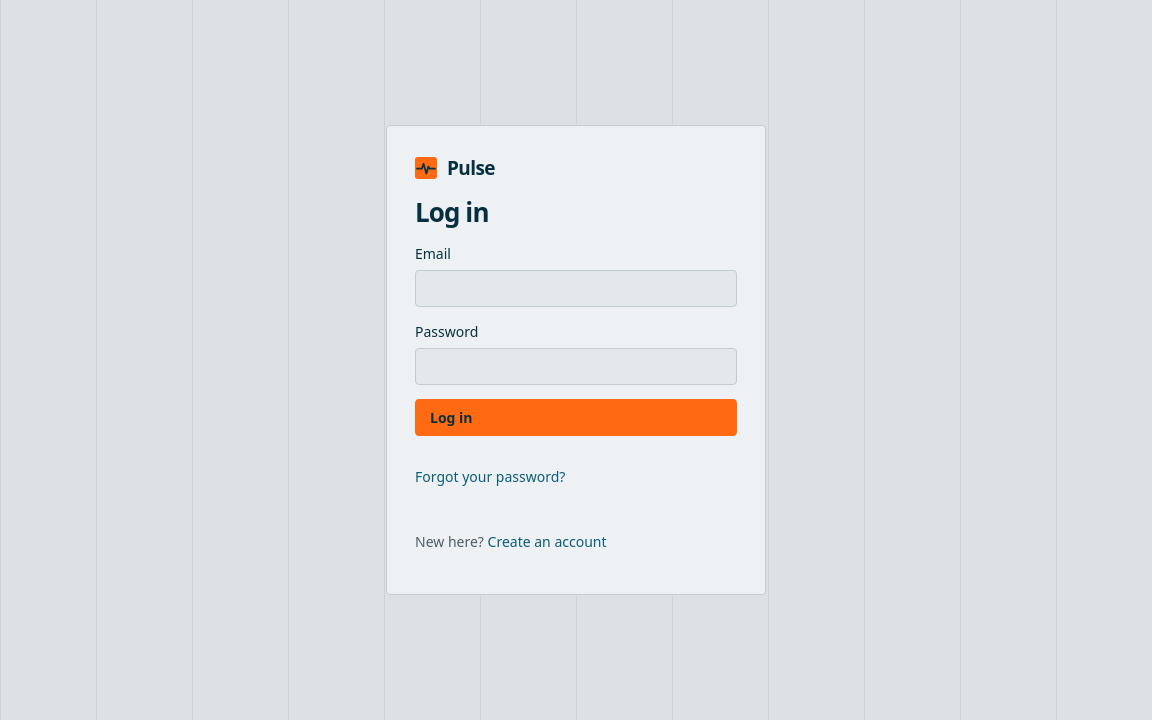
Test: the dashboard › logs in, shows project health, opens an issue and resolves it
// 1. Log in
In the field labelled "Email": (576, 288) x1=415 y1=270 x2=737 y2=307, type "ada@example.com"
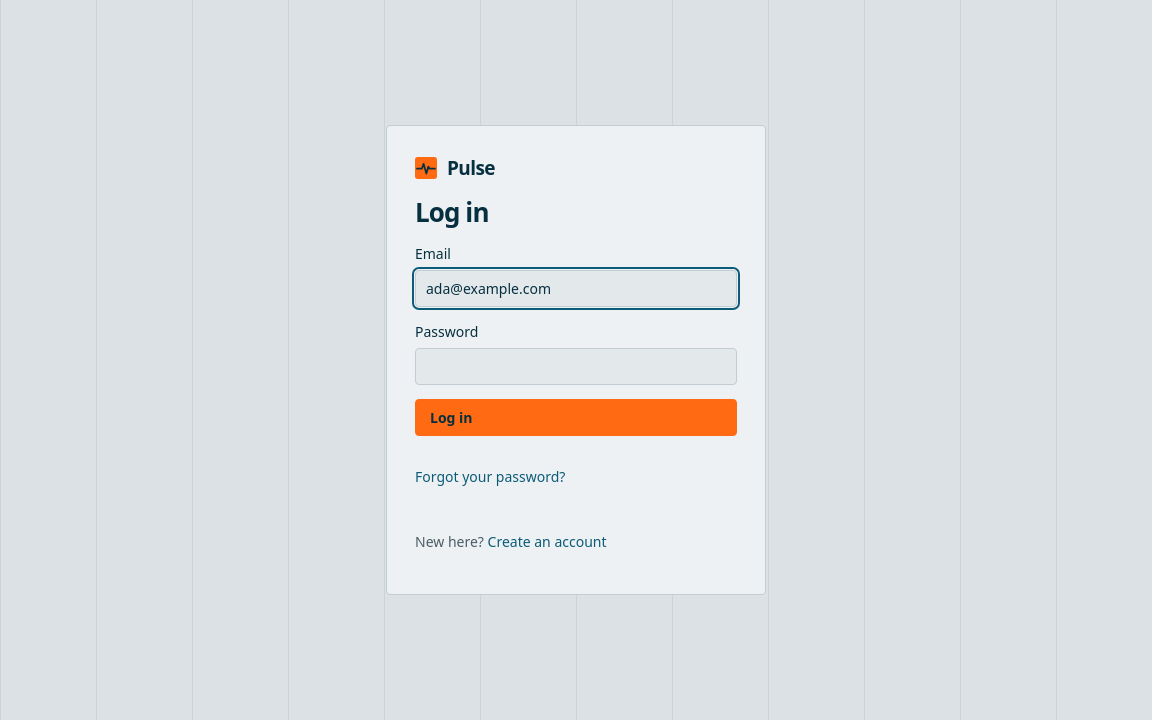
In the password field labelled "Password": (576, 366) x1=415 y1=348 x2=737 y2=385, type "correct-password"
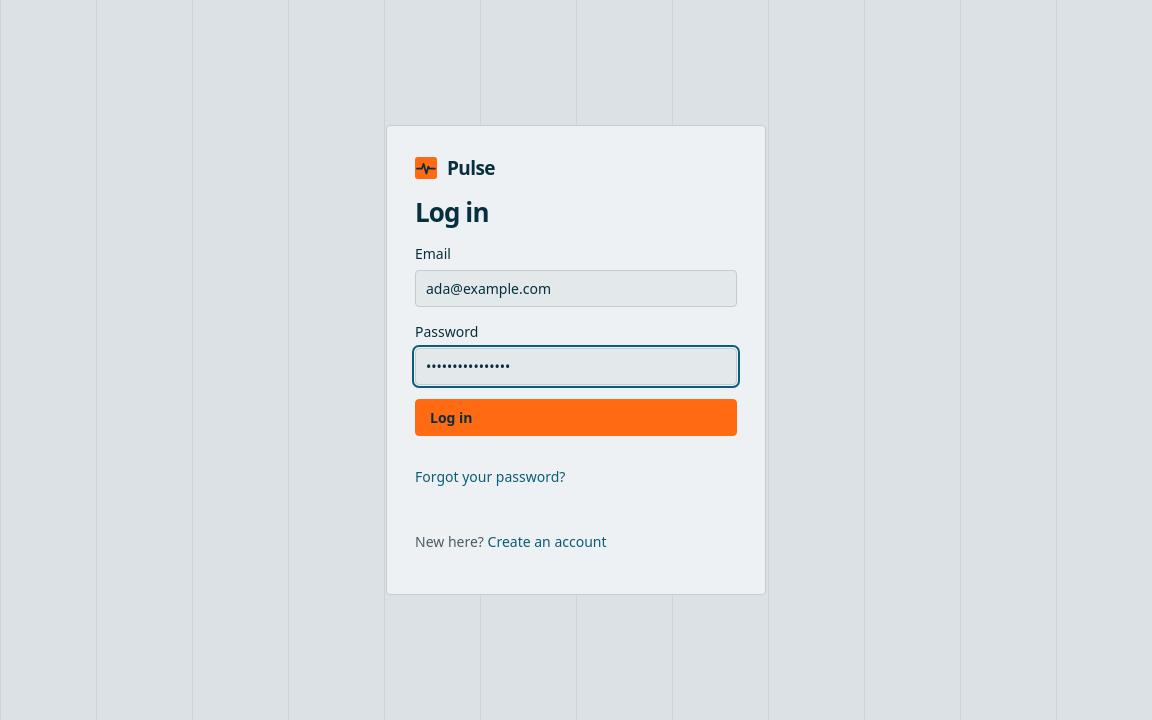
Click the button "Log in": (451, 418) x1=415 y1=399 x2=737 y2=436
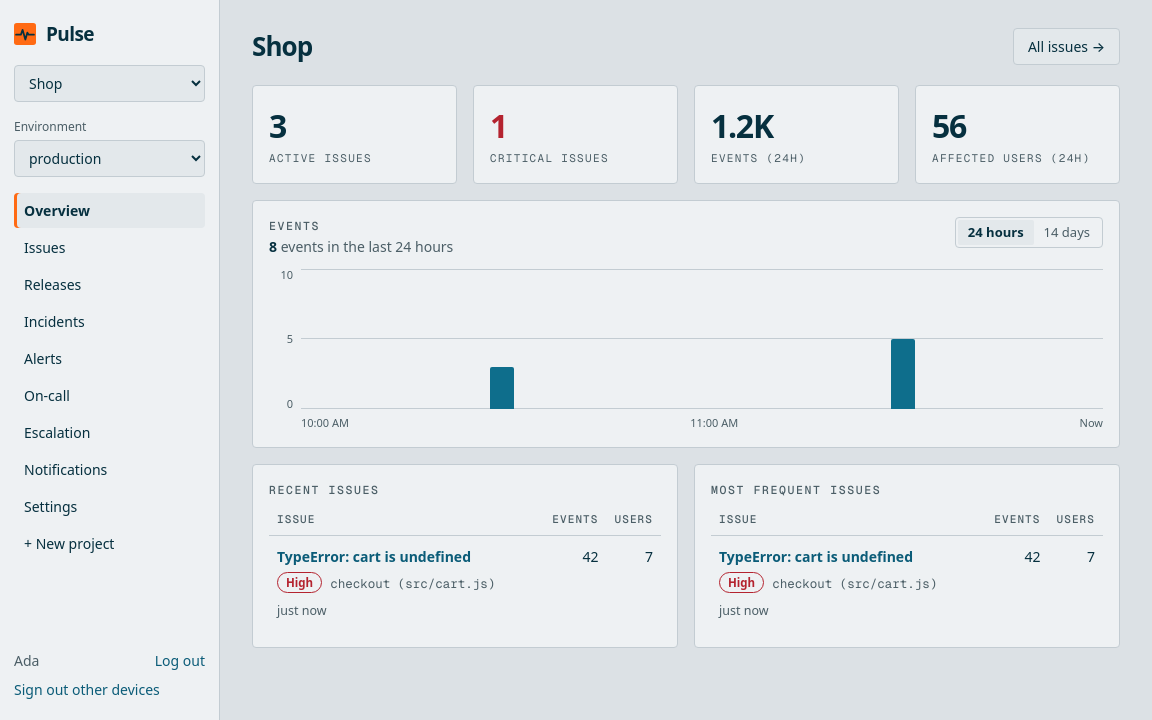
Result: the heading "Shop" is shown at x1=252 y1=32 x2=312 y2=61
Result: the text "1.2K" is shown at x1=711 y1=104 x2=773 y2=147
Result: the text "Affected users (24h)" is shown at x1=932 y1=150 x2=1103 y2=166
Click the link "TypeError: cart is undefined" below "Recent issues": (374, 556) x1=277 y1=547 x2=471 y2=566
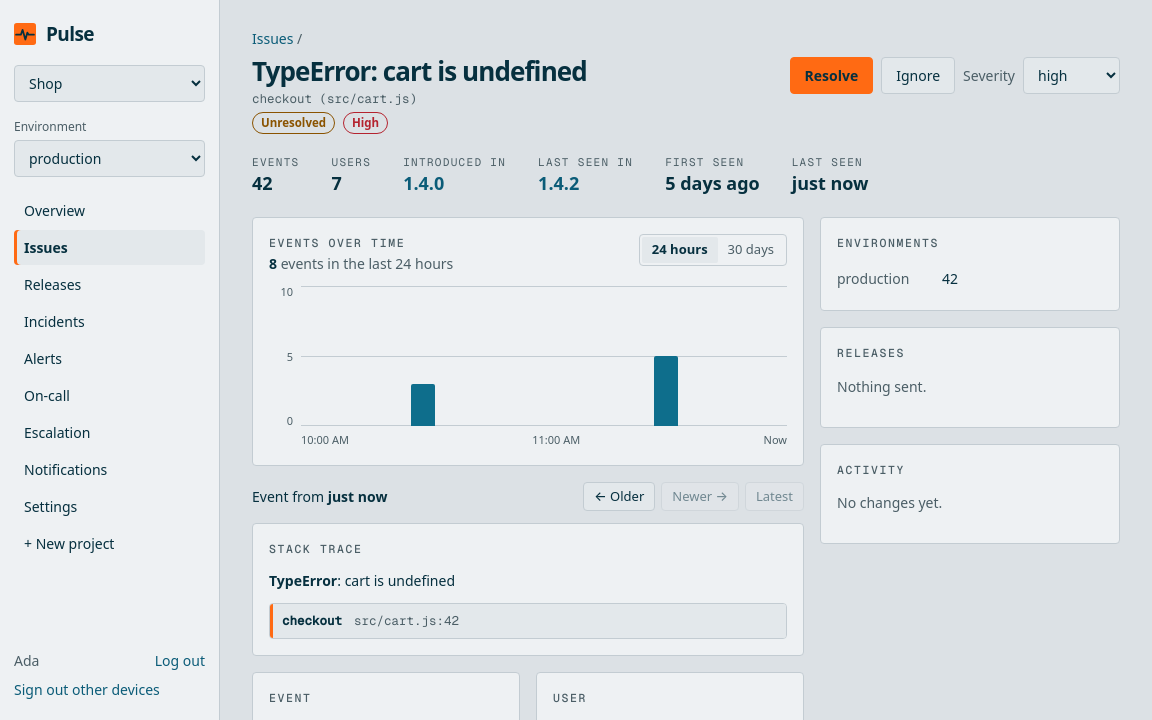
Result: the heading "TypeError: cart is undefined" is shown at x1=252 y1=57 x2=587 y2=86
Result: the list named "Stack trace" shows "checkout" at x1=282 y1=612 x2=342 y2=629
Result: the button "← Older" is enabled at x1=583 y1=482 x2=655 y2=511
// Resolve it
Click the button "Resolve": (831, 76) x1=790 y1=57 x2=873 y2=94
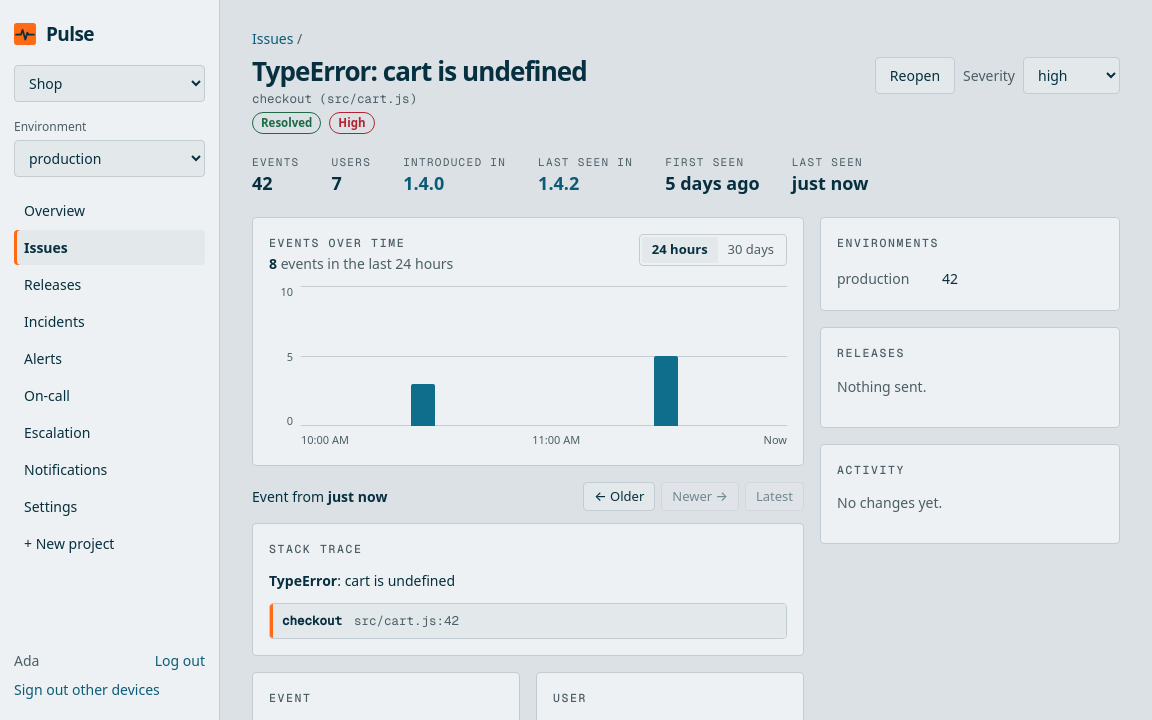
Result: the text "Resolved" is shown at x1=252 y1=112 x2=321 y2=134
Result: the button "Reopen" is shown at x1=875 y1=57 x2=955 y2=94
